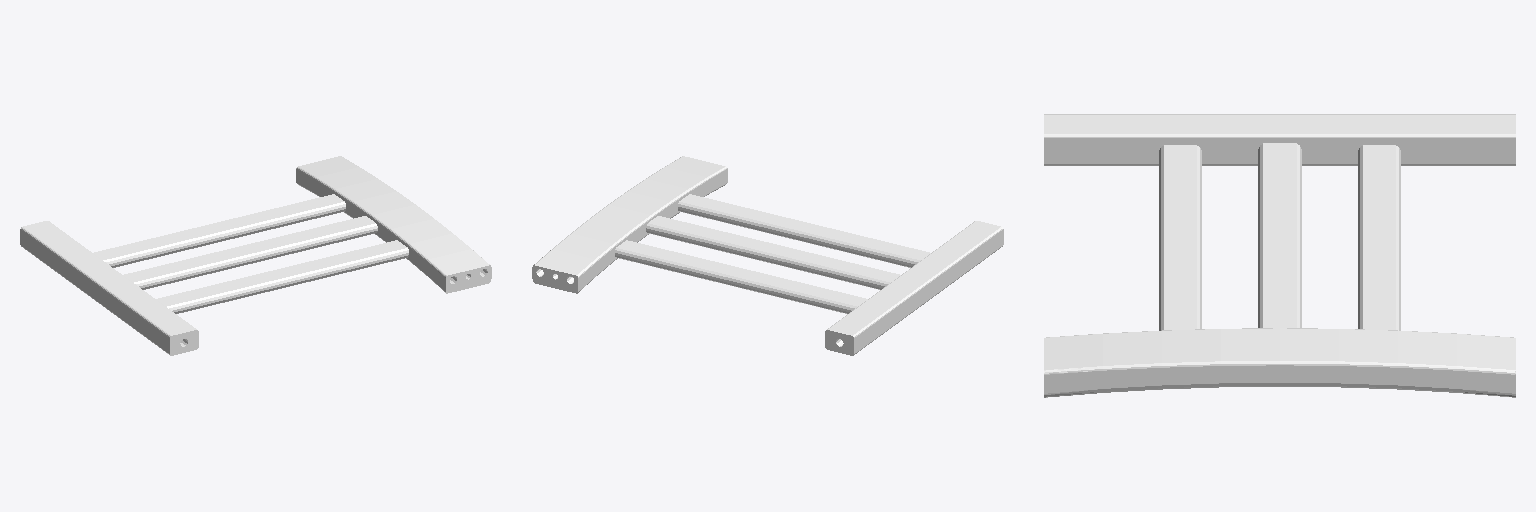
The robot description file, URDF, robot "ikea_stefan_middle":
<?xml version="1.0" ?>
<robot name="ikea_stefan_middle">
  <link name="middle_link">
    <inertial>
      <origin rpy="0 0 0" xyz="0 -0.1 0"/>
       <mass value=".2"/>
       <inertia ixx="0" ixy="0" ixz="0" iyy="0" iyz="0" izz="0"/>
    </inertial>
    <visual>
      <origin rpy="0 0 0" xyz="0 0 0"/>
      <geometry>
				<mesh filename="ikea_stefan_middle.stl" scale="1 1 1"/>
      </geometry>
       <material name="white">
        <color rgba="1 1 1 1"/>
      </material>
    </visual>
    <collision>
      <origin rpy="0 0 0" xyz="0 0 0"/>
      <geometry>
      <mesh filename="ikea_stefan_middle.stl" scale="1 1 1"/>
     
      </geometry>
    </collision>
  </link>
</robot>

--- Render facts (derived) ---
3 views of the same robot in one strip: view 1: azimuth 30°, elevation 25°; view 2: azimuth 150°, elevation 25°; view 3: azimuth 270°, elevation 25° (orthographic).
Model ikea_stefan_middle with 1 links and 0 joints (none), rooted at middle_link, posed every joint at zero.
Visible links, largest first — view 1: middle_link; view 2: middle_link; view 3: middle_link.
Link boxes in pixels (x1,y1,x2,y2): middle_link: (20, 156, 491, 355); middle_link: (532, 156, 1003, 355); middle_link: (1044, 114, 1515, 397).
Size in the robot's own frame: 0.3358 by 0.27 by 0.025 metres.
1 mesh visuals loaded from 1 distinct referenced files (1 binary STL).
